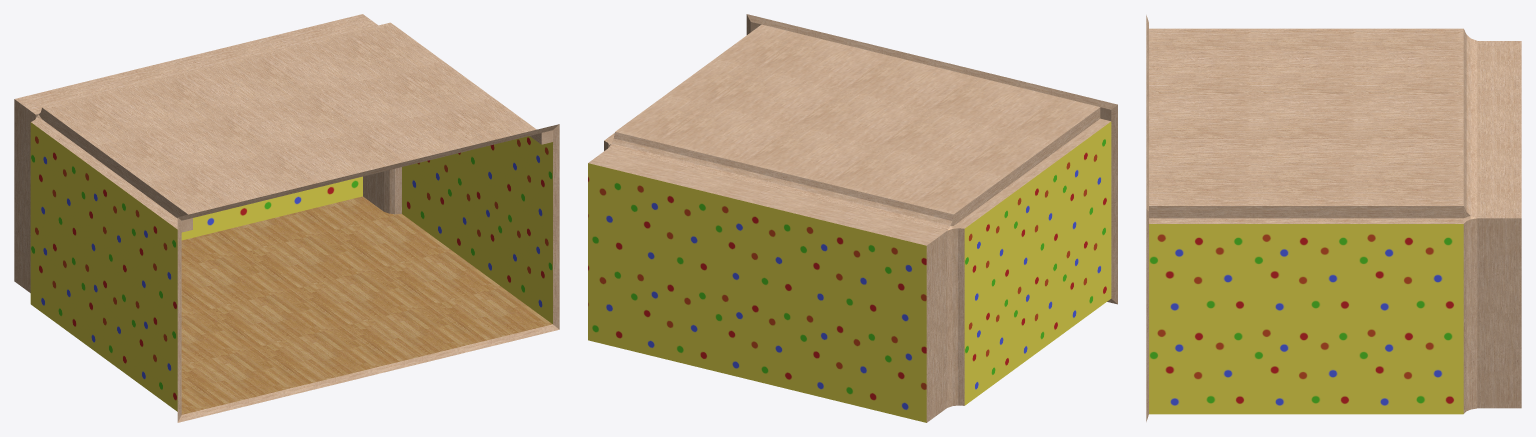
Rendered from kitchen_1.FBX.
The picture shows the model from 3 angles, left to right: view 1: azimuth 30°, elevation 25°; view 2: azimuth 150°, elevation 25°; view 3: azimuth 270°, elevation 25°; orthographic projection. The views are drawn at different scales.
Visible parts, largest first — view 1: Plane001; view 2: Plane001; view 3: Plane001.
Part boxes in pixels (box(x1,y1,x2,y2)): Plane001: box(14, 14, 559, 422); Plane001: box(588, 14, 1117, 422); Plane001: box(1146, 15, 1521, 421).
Bounding box in the file's own units: 439 × 226 × 358.
